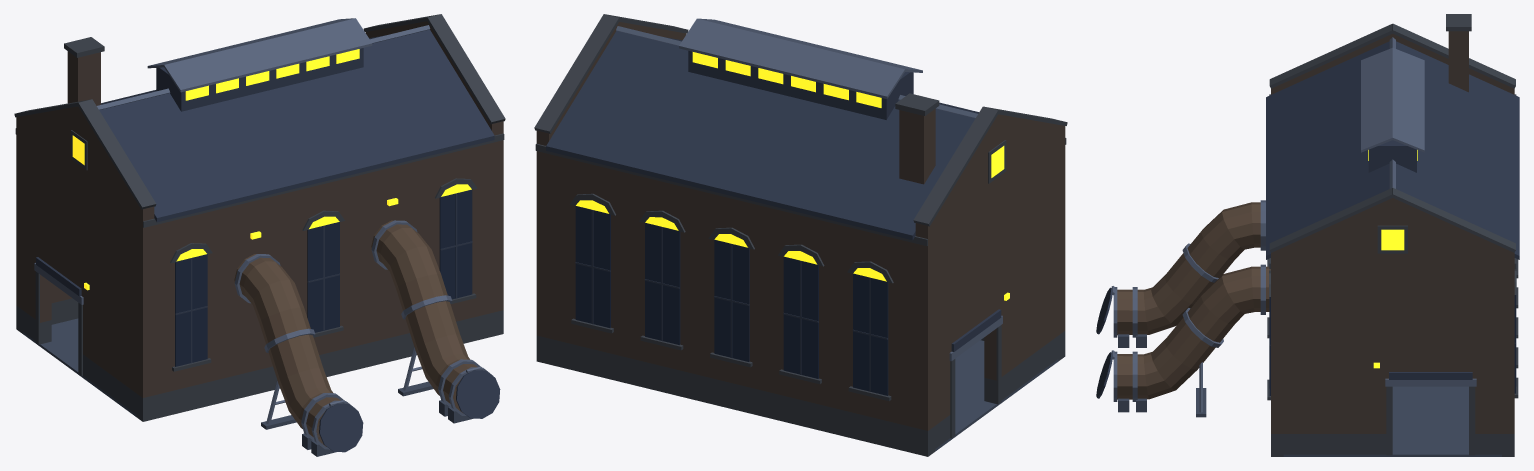
Rendered from dock_pump_house.glb.
3 views of the same model, side by side, from view 1: azimuth 30°, elevation 25°; view 2: azimuth 150°, elevation 25°; view 3: azimuth 270°, elevation 25° (orthographic). The views are drawn at different scales.
Visible parts, largest first — view 1: brick, roof, stonework, pipe, steelwork, window, amber_light, walk_slab, concrete; view 2: brick, roof, stonework, window, steelwork, amber_light, walk_slab; view 3: brick, roof, pipe, stonework, steelwork, walk_slab, concrete, amber_light.
Boxes of the visible parts, x1,y1,x2,y2 form: brick: (16, 21, 503, 397); roof: (36, 29, 500, 452); stonework: (14, 14, 505, 421); pipe: (234, 220, 477, 446); steelwork: (34, 18, 492, 449); window: (175, 189, 472, 366); amber_light: (72, 49, 471, 290); walk_slab: (23, 318, 136, 416); concrete: (261, 381, 473, 456); brick: (536, 22, 1065, 430); roof: (546, 31, 1001, 391); stonework: (534, 14, 1067, 456); window: (575, 206, 888, 395); steelwork: (616, 18, 1002, 361); amber_light: (576, 52, 1009, 300); walk_slab: (935, 340, 1058, 451); brick: (1271, 31, 1514, 433); roof: (1096, 41, 1519, 398); pipe: (1117, 202, 1270, 399); stonework: (1267, 14, 1518, 456); steelwork: (1111, 37, 1476, 412); walk_slab: (1283, 386, 1501, 456); concrete: (1118, 334, 1206, 417); amber_light: (1368, 150, 1417, 368).
Bounding box in the file's own units: 16 × 12.4 × 16.68.
